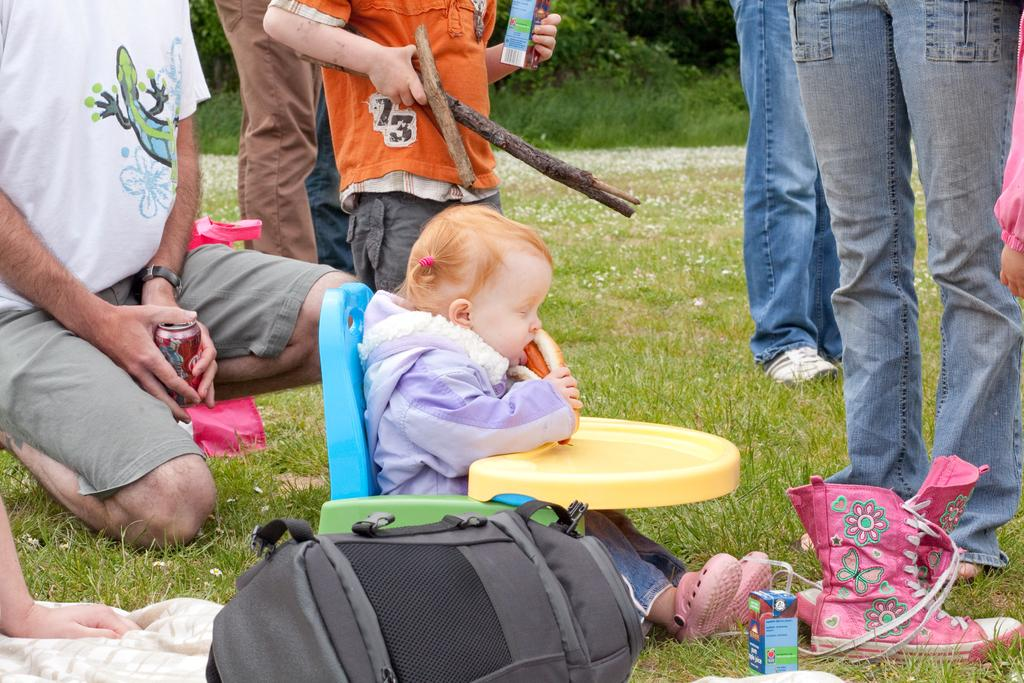Luggage-and-bags: (198, 504, 679, 680)
